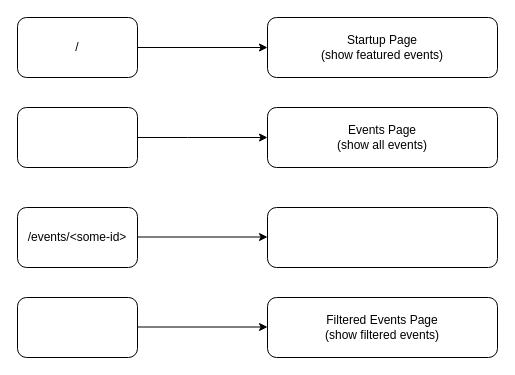
Some shapes in this 515 by 375 pixel diagram are drawn without their labels. Here are the shapes that lost their labels. From the top down, the box of each, then its label:
(16, 106, 138, 168): /events
(266, 206, 498, 268): Events Detail Page (show selected Event)
(16, 296, 138, 358): /events/[...slug ]
